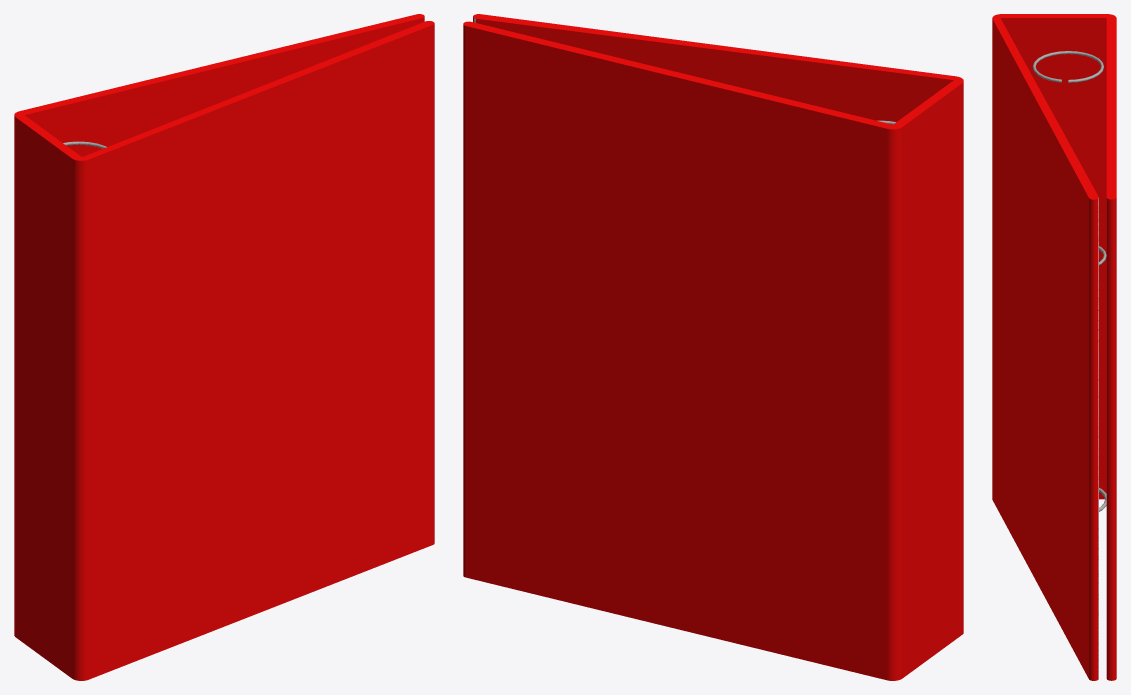
3 views of the same model, side by side, from view 1: azimuth 30°, elevation 25°; view 2: azimuth 150°, elevation 25°; view 3: azimuth 270°, elevation 25° (orthographic). The views are drawn at different scales.
Visible parts, largest first — view 1: binder; view 2: binder; view 3: binder.
Part boxes in pixels (<box>): binder: <box>14,14,434,680</box>; binder: <box>463,14,963,680</box>; binder: <box>992,14,1116,680</box>.
Size of the model in its own units: 303 by 366 by 85.46.
